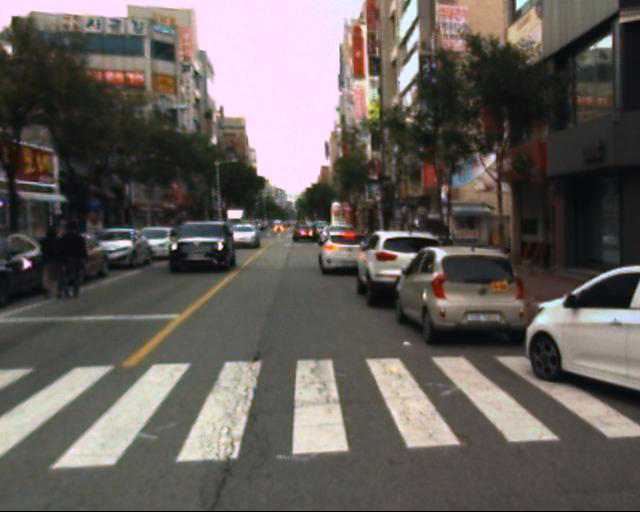person: (25, 213, 75, 307), (58, 212, 106, 301)
